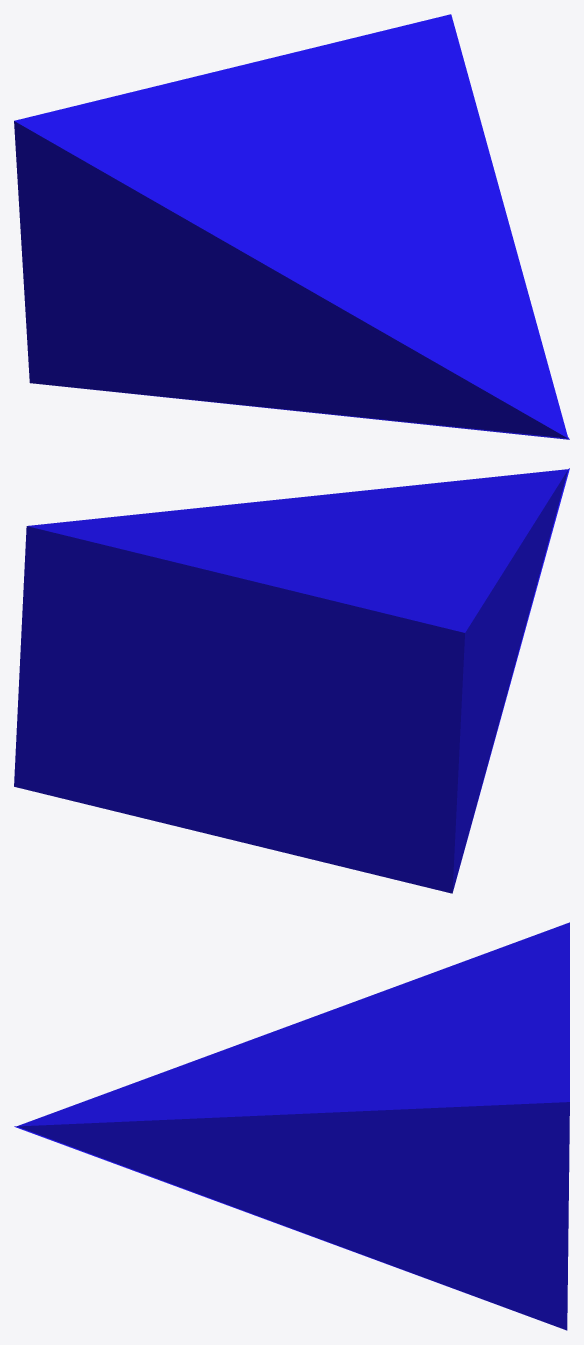
File: wedge_blue.gltf
The picture shows the model from 3 angles, top to bottom: view 1: azimuth 30°, elevation 25°; view 2: azimuth 150°, elevation 25°; view 3: azimuth 270°, elevation 25°; orthographic projection. The views are drawn at different scales.
Visible parts, largest first — view 1: Cube; view 2: Cube; view 3: Cube.
Boxes of the visible parts, x1,y1,x2,y2 form: Cube: (14,14,569,439); Cube: (14,468,569,893); Cube: (14,922,569,1330).
Size of the model in its own units: 2.03 by 1.14 by 2.57.
